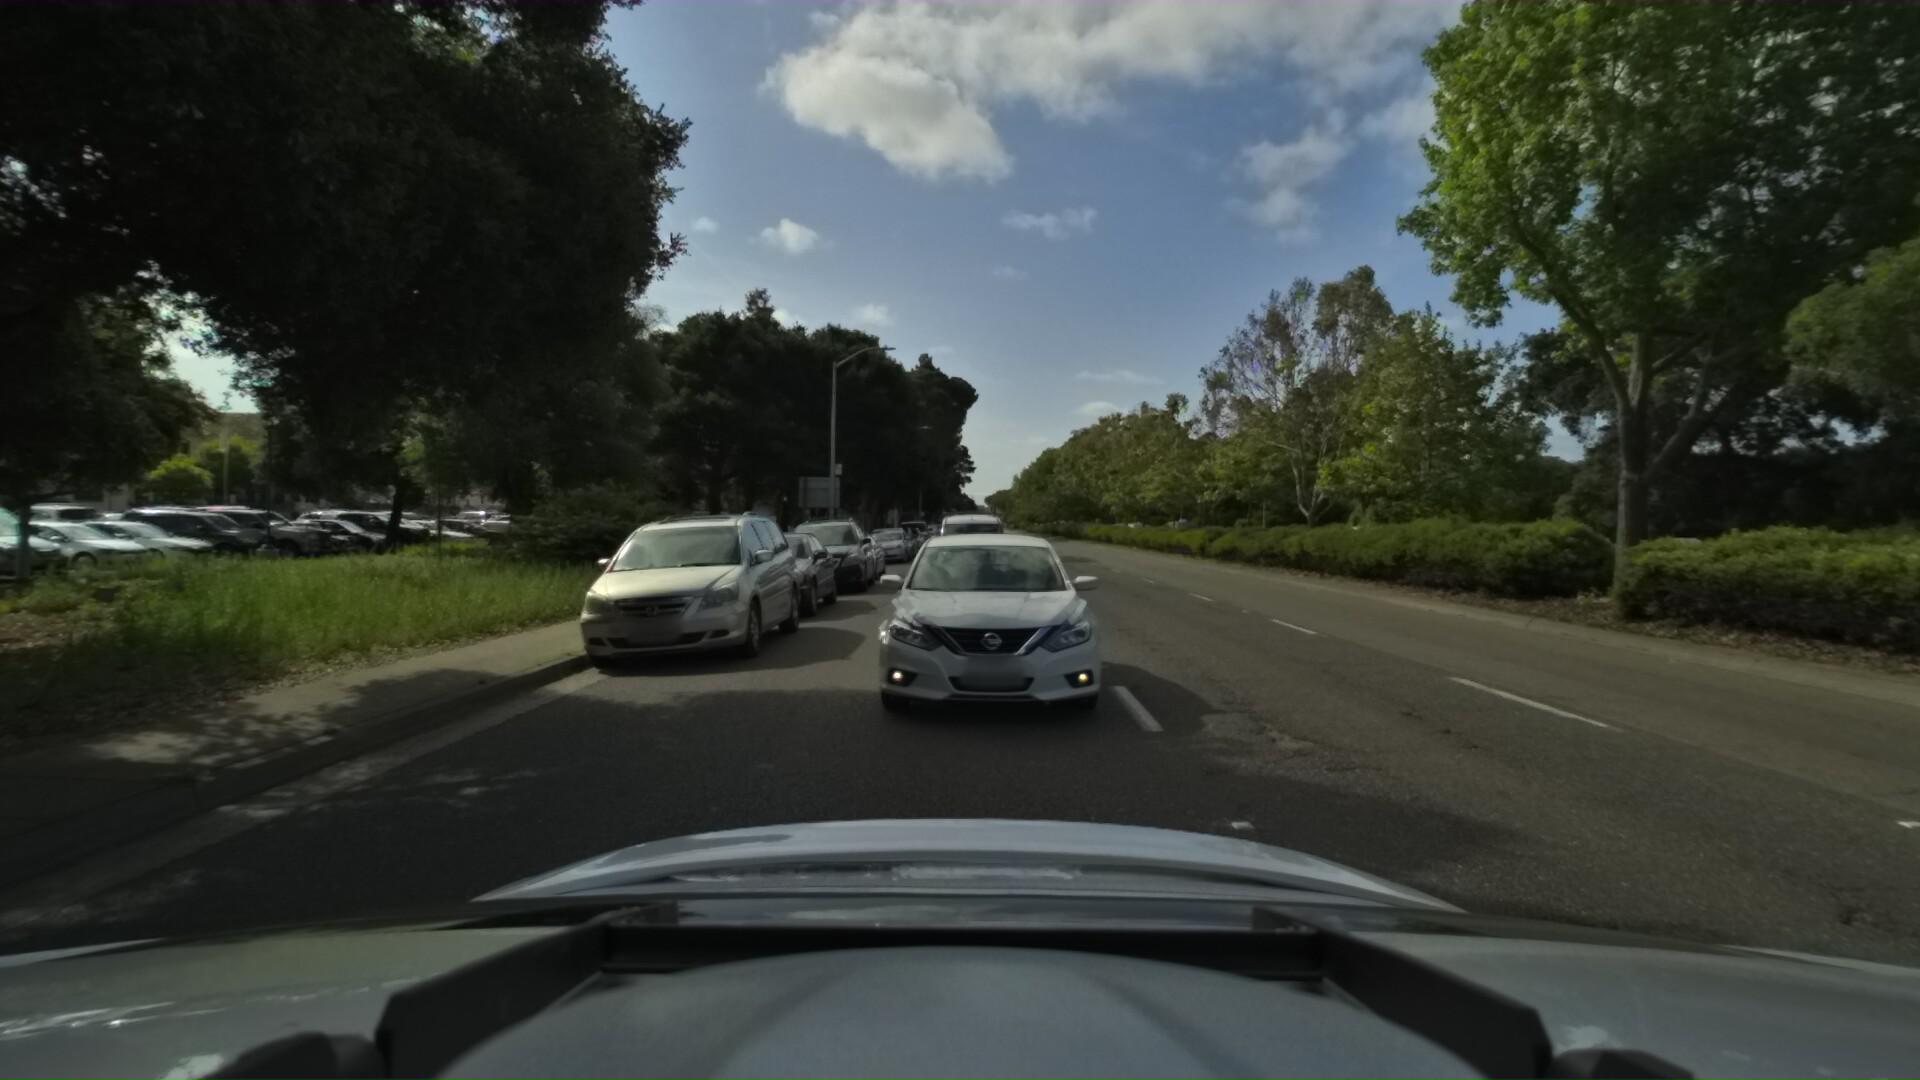car: (866, 524, 1127, 749), (566, 504, 812, 682), (700, 526, 847, 629), (773, 512, 880, 603), (928, 498, 1007, 589), (814, 529, 886, 589), (858, 527, 911, 567), (890, 518, 928, 554), (882, 526, 924, 556)
